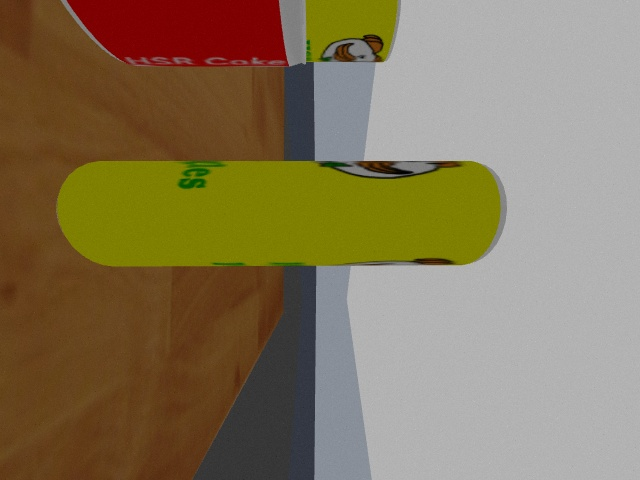chipsdose_gelb: (57, 160, 507, 267), (307, 1, 401, 63)
